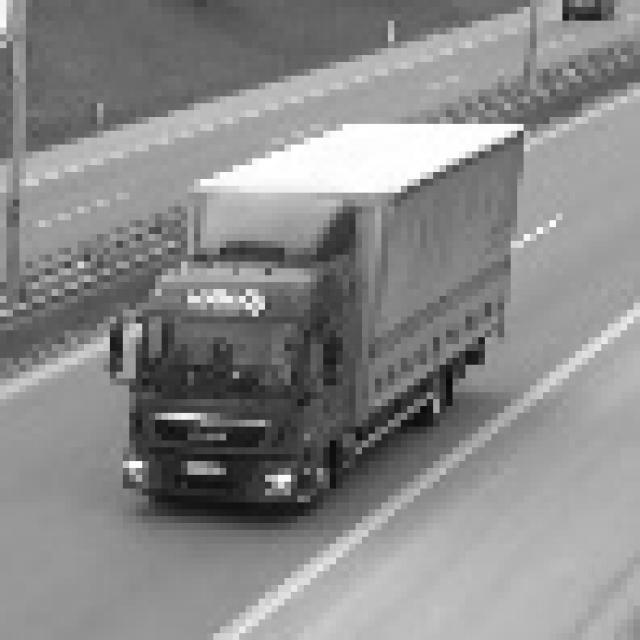truck: (95, 233, 379, 518)
